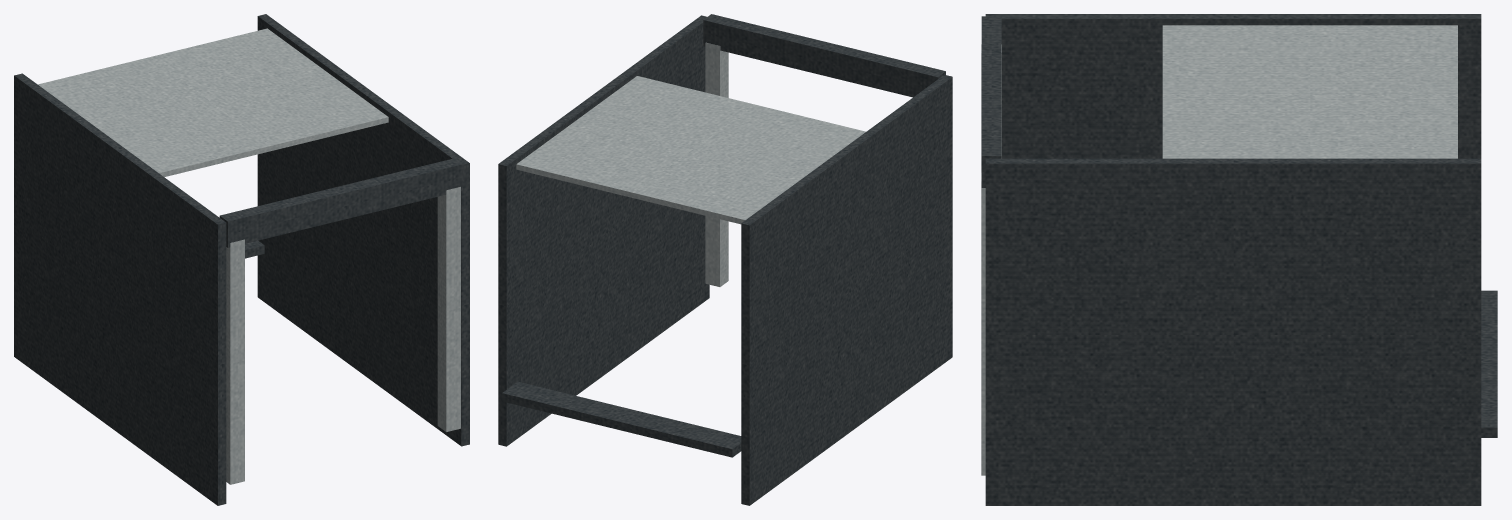
File: PROJECT_Z_Kitchen_StoveBay600_Prefab.glb
The picture shows the model from 3 angles, left to right: view 1: azimuth 30°, elevation 25°; view 2: azimuth 150°, elevation 25°; view 3: azimuth 270°, elevation 25°; orthographic projection. The views are drawn at different scales.
Visible parts, largest first — view 1: STOVE_BAY_600_BayLeftSupport, STOVE_BAY_600_BayRightSupport, STOVE_BAY_600_BayRearServicePanel, STOVE_BAY_600_BayUpperRearBridge, STOVE_BAY_600_BayCounterSupport_0.557, STOVE_BAY_600_BayCounterSupport_0.043; view 2: STOVE_BAY_600_BayLeftSupport, STOVE_BAY_600_BayRightSupport, STOVE_BAY_600_BayRearServicePanel, STOVE_BAY_600_BayUpperRearBridge, STOVE_BAY_600_BayToeKickCrossmember, STOVE_BAY_600_BayCounterSupport_0.557; view 3: STOVE_BAY_600_BayRightSupport, STOVE_BAY_600_BayRearServicePanel, STOVE_BAY_600_BayLeftSupport, STOVE_BAY_600_BayUpperRearBridge, STOVE_BAY_600_BayToeKickCrossmember, STOVE_BAY_600_BayCounterSupport_0.557.
Part boxes in pixels (x1,y1,x2,y2): STOVE_BAY_600_BayLeftSupport: (14,73,226,505); STOVE_BAY_600_BayRightSupport: (257,14,469,446); STOVE_BAY_600_BayRearServicePanel: (38,28,388,176); STOVE_BAY_600_BayUpperRearBridge: (219,158,463,247); STOVE_BAY_600_BayCounterSupport_0.557: (437,187,460,431); STOVE_BAY_600_BayCounterSupport_0.043: (226,239,244,484); STOVE_BAY_600_BayLeftSupport: (741,74,952,505); STOVE_BAY_600_BayRightSupport: (498,15,709,446); STOVE_BAY_600_BayRearServicePanel: (516,76,865,224); STOVE_BAY_600_BayUpperRearBridge: (703,14,945,97); STOVE_BAY_600_BayToeKickCrossmember: (502,381,741,457); STOVE_BAY_600_BayCounterSupport_0.557: (705,42,728,286); STOVE_BAY_600_BayRightSupport: (985,158,1481,505); STOVE_BAY_600_BayRearServicePanel: (1162,25,1457,158); STOVE_BAY_600_BayLeftSupport: (985,14,1481,158); STOVE_BAY_600_BayUpperRearBridge: (981,16,1001,187); STOVE_BAY_600_BayToeKickCrossmember: (1481,290,1497,437); STOVE_BAY_600_BayCounterSupport_0.557: (981,173,985,475).
Bounding box in the file's own units: 0.6 × 0.645 × 0.875.
4 materials, 4 textured.
